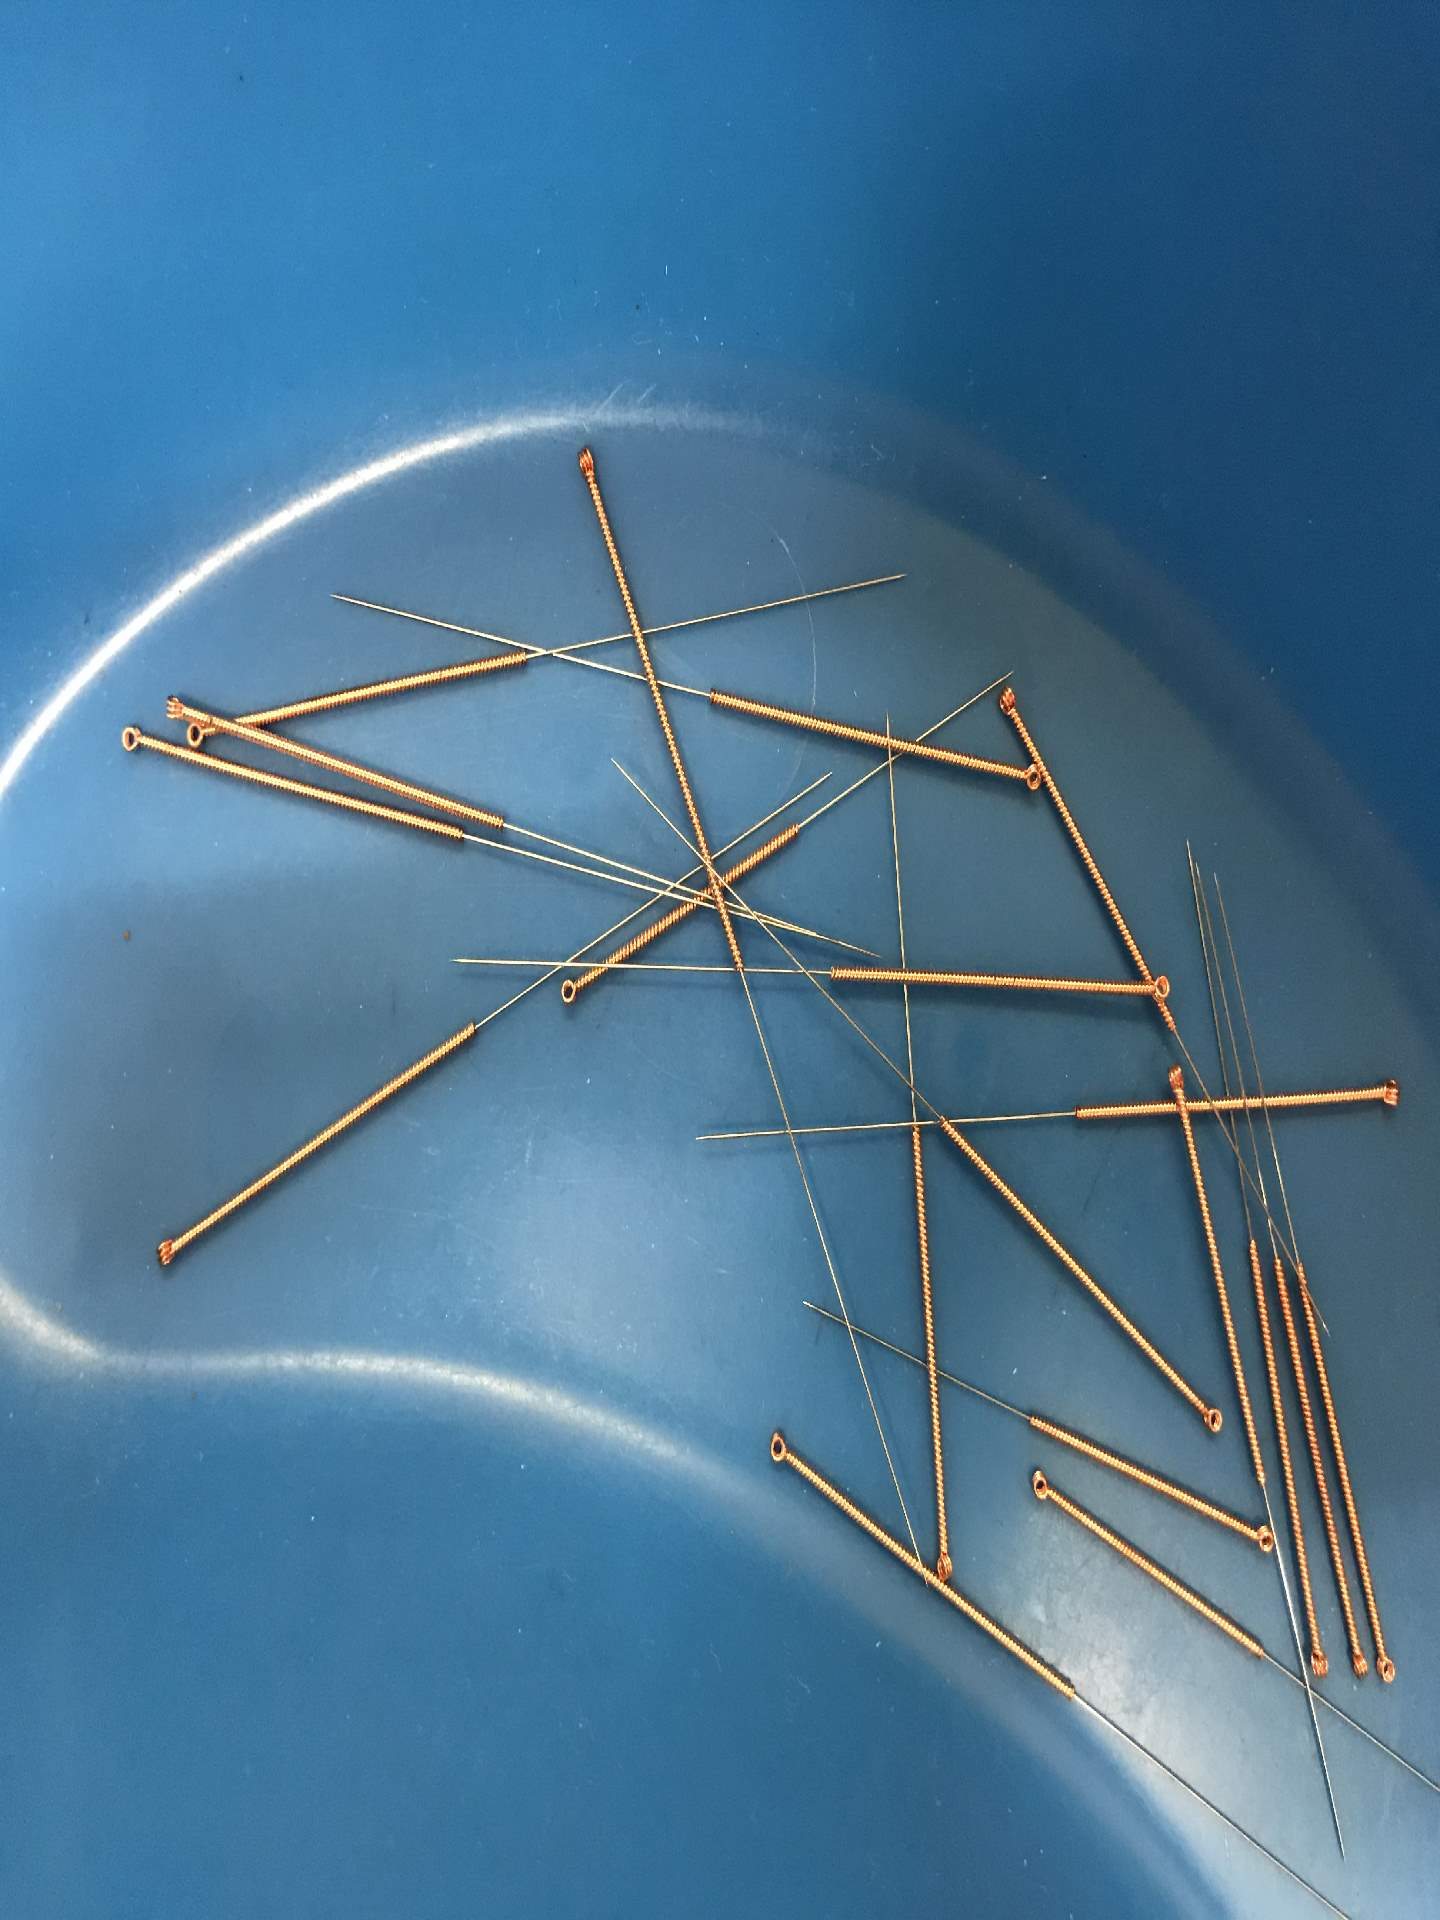needle: (107, 717, 156, 763), (758, 1426, 803, 1473), (148, 1228, 192, 1276), (1364, 1072, 1411, 1116), (1370, 1637, 1402, 1701), (567, 437, 607, 485), (1021, 1463, 1057, 1512), (1242, 1519, 1283, 1560), (1195, 1395, 1230, 1442), (153, 686, 197, 723), (1342, 1642, 1373, 1692), (554, 971, 588, 1016), (1302, 1633, 1333, 1683), (992, 683, 1024, 723), (933, 1533, 957, 1584), (1133, 975, 1175, 1002), (178, 720, 213, 751), (1160, 1058, 1189, 1096), (1013, 760, 1044, 794)
